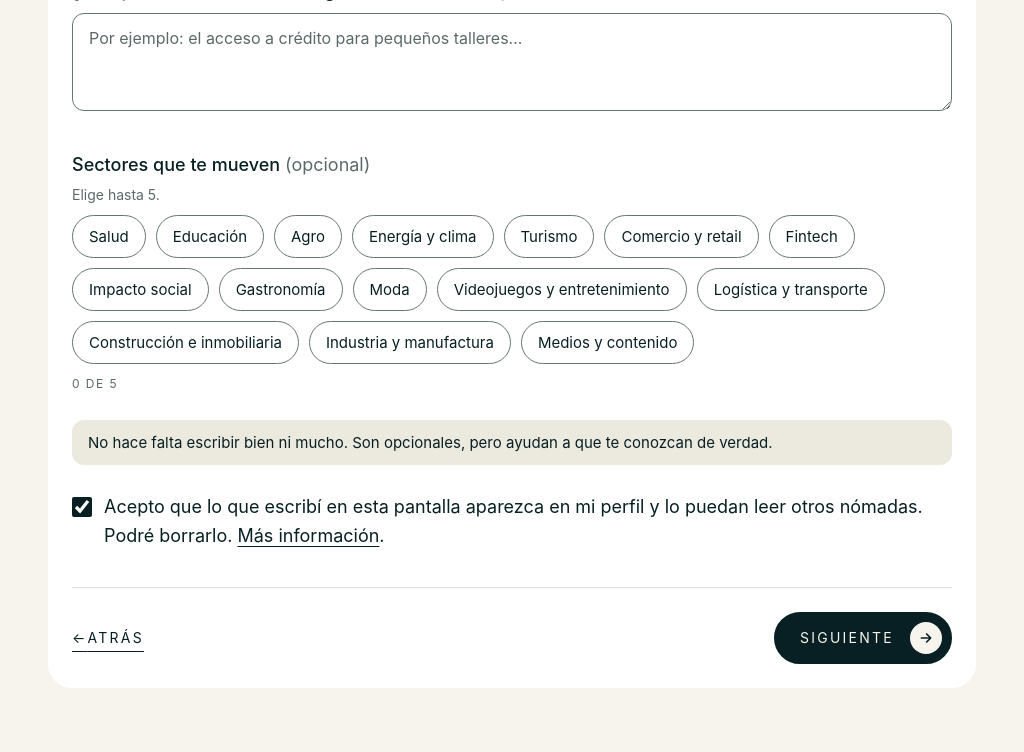
it: HistoriasView: guardar › si el servidor rechaza algo, lo muestra junto a su campo
(page scrolled)
Step 1. Click the button "Siguiente" → click(863, 638), box [774,612,952,664]
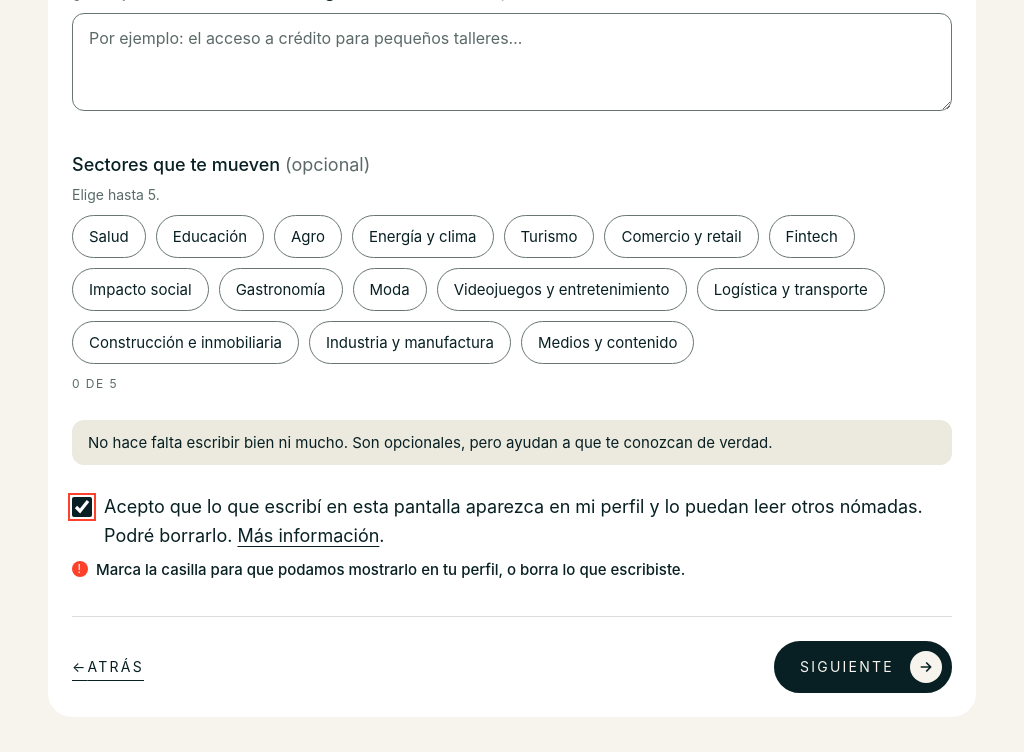
Now the text "Marca la casilla para que podamos mostrarlo en tu perfil, o borra lo que escribiste." is shown, box [96,560,685,579]
